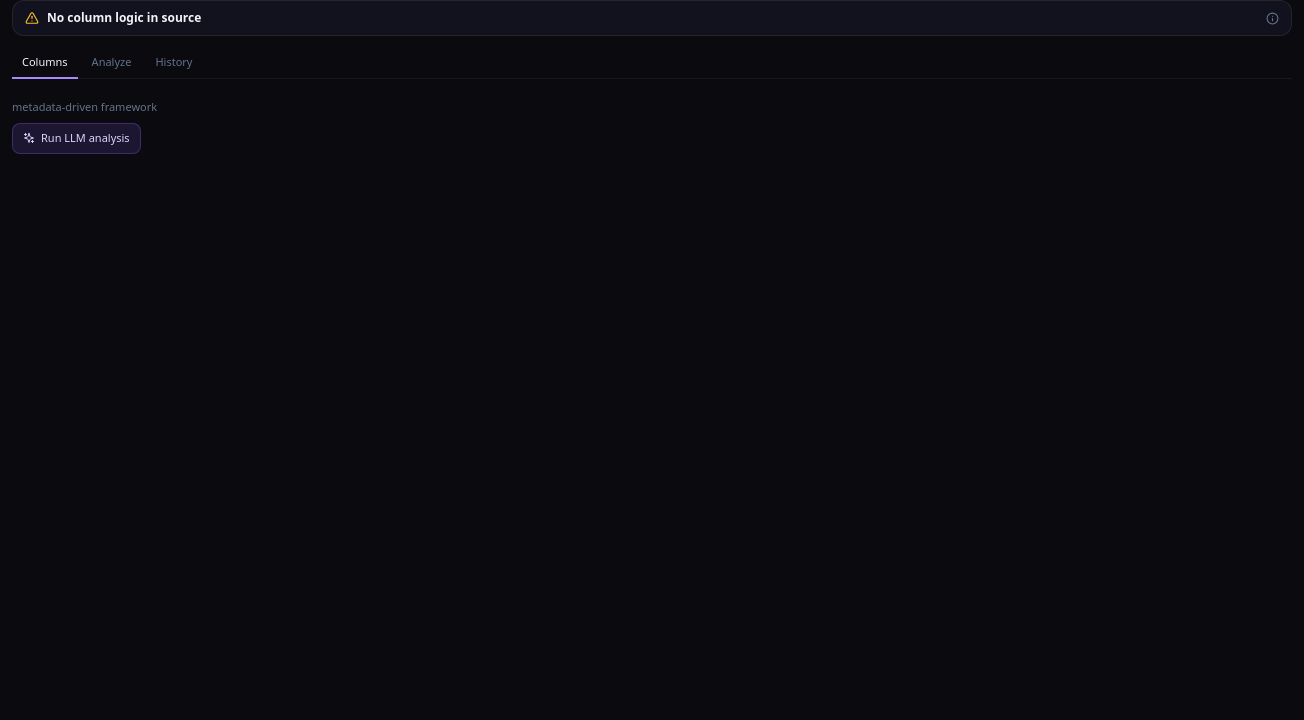
Test: ColumnTransformationPanel › shows a reason-specific notice with a next step when deep analysis derives nothing
The image size is (1304, 720).
What coordinates should you click on to do the following:
click the tab "Analyze"
I would click on:
 (112, 63)
Its box is [82,48,141,78].
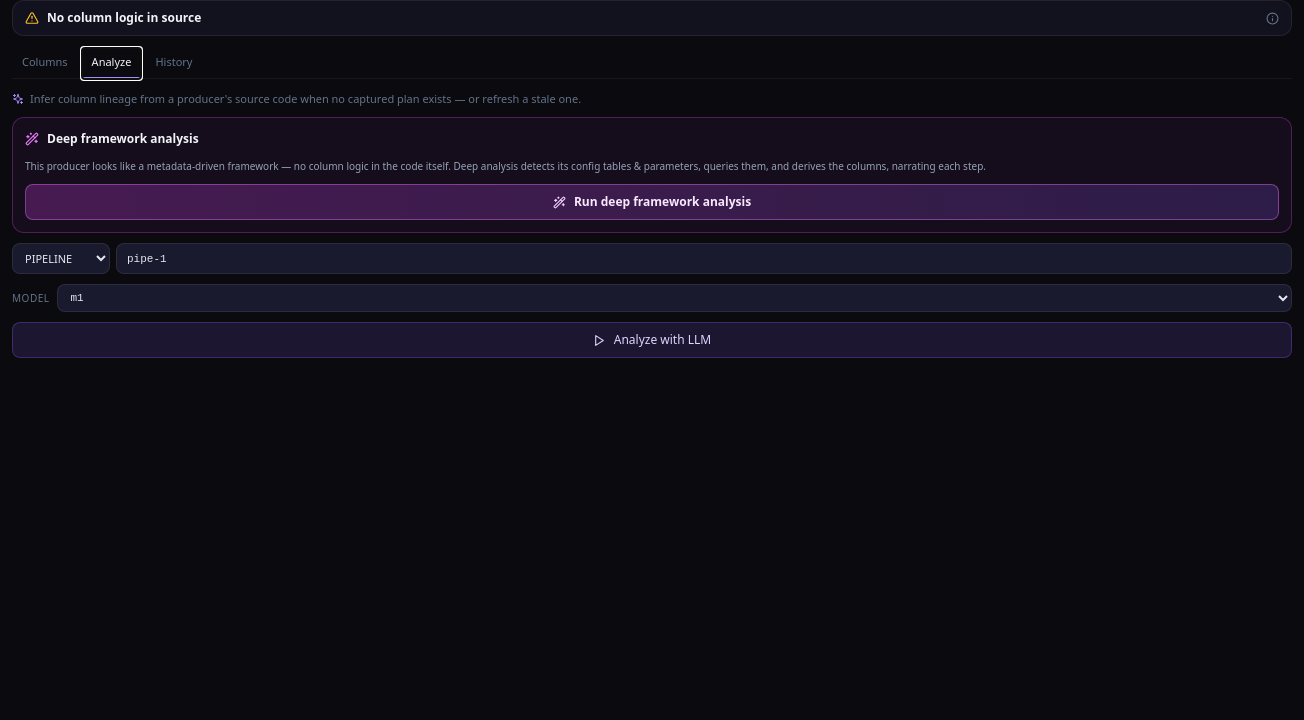
What coordinates should you click on to do the following:
click the button "Run deep framework analysis"
I would click on:
 (652, 202)
Its box is [25,184,1279,220].
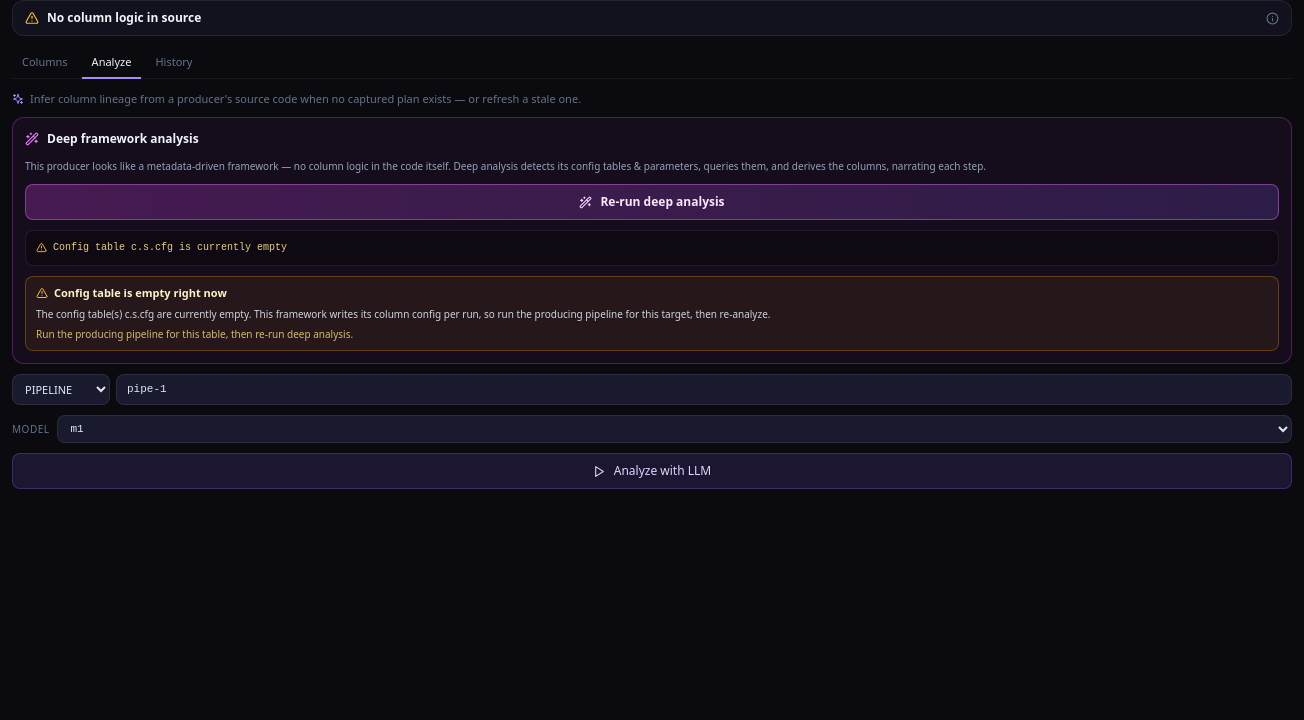
Now the text "Config table is empty right now" is shown, box [54,285,227,302]
Now the text "Run the producing pipeline for this table, then re-run deep analysis" is shown, box [36,327,353,341]
Now the text "are currently empty" is shown, box [36,306,770,320]
